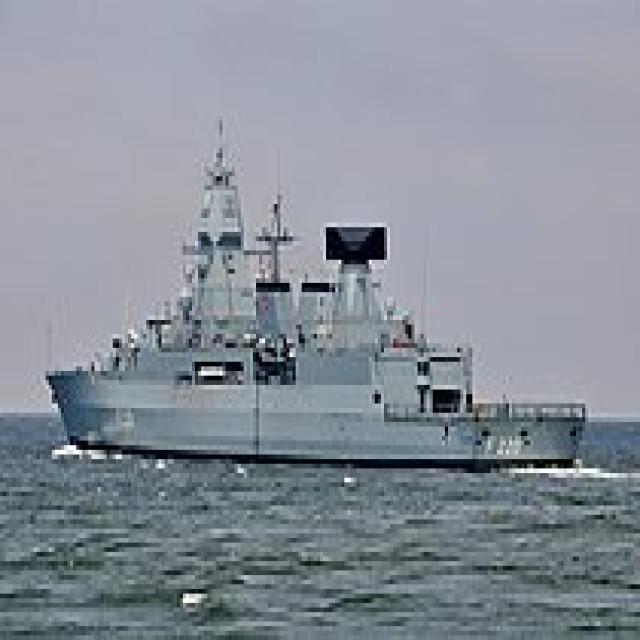Warship: (40, 107, 588, 468)
